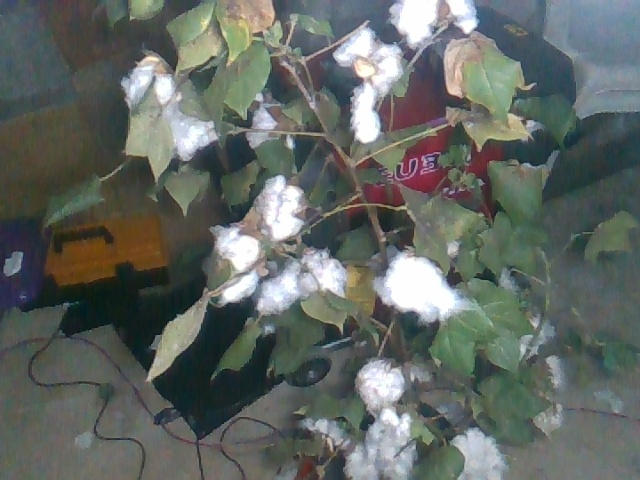cotton: (119, 54, 221, 171), (333, 28, 408, 144), (297, 414, 424, 480), (369, 240, 461, 325), (352, 356, 428, 426), (206, 221, 259, 309), (385, 1, 480, 49), (444, 425, 517, 480), (251, 174, 309, 243), (255, 257, 317, 317), (299, 244, 351, 301), (246, 95, 295, 148)
